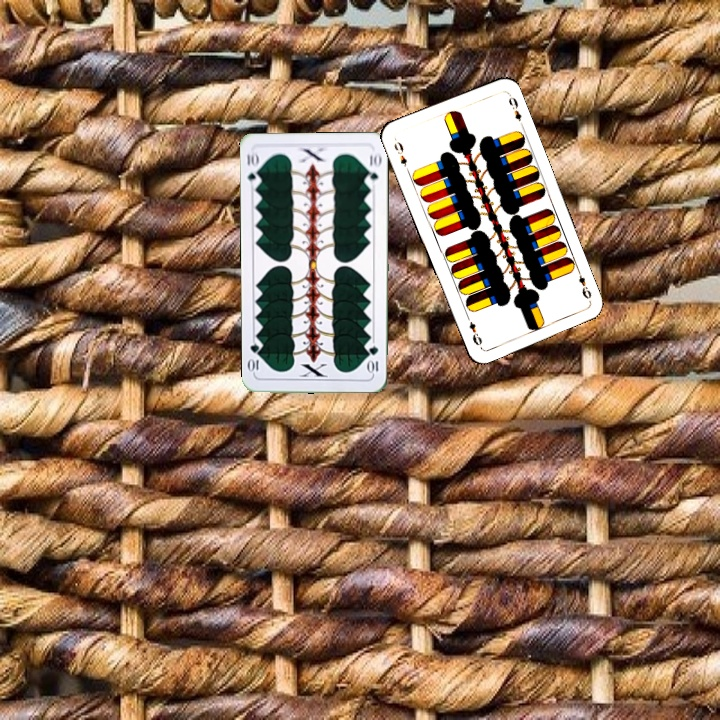E9: (573, 266, 594, 305), (390, 138, 410, 169)
G10: (243, 148, 263, 188), (365, 341, 381, 376)
